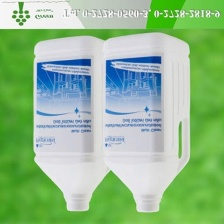cleaning_solution: (97, 29, 192, 216), (29, 31, 117, 214)
